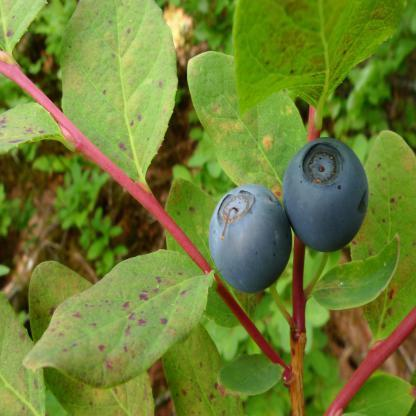Blueberry leaf: (26, 242, 216, 380), (60, 0, 188, 194), (180, 46, 304, 184)
